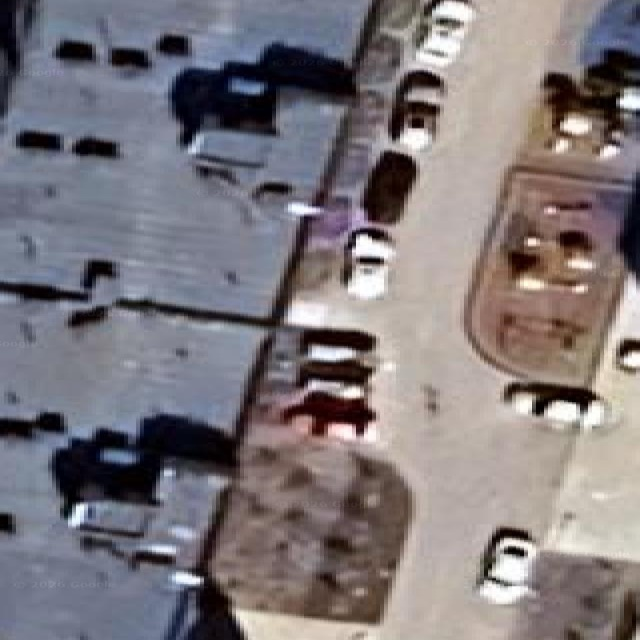car: (504, 383, 611, 430), (281, 391, 375, 440), (477, 531, 536, 604), (416, 0, 474, 67), (345, 228, 394, 299), (301, 328, 376, 362), (616, 339, 639, 372)
